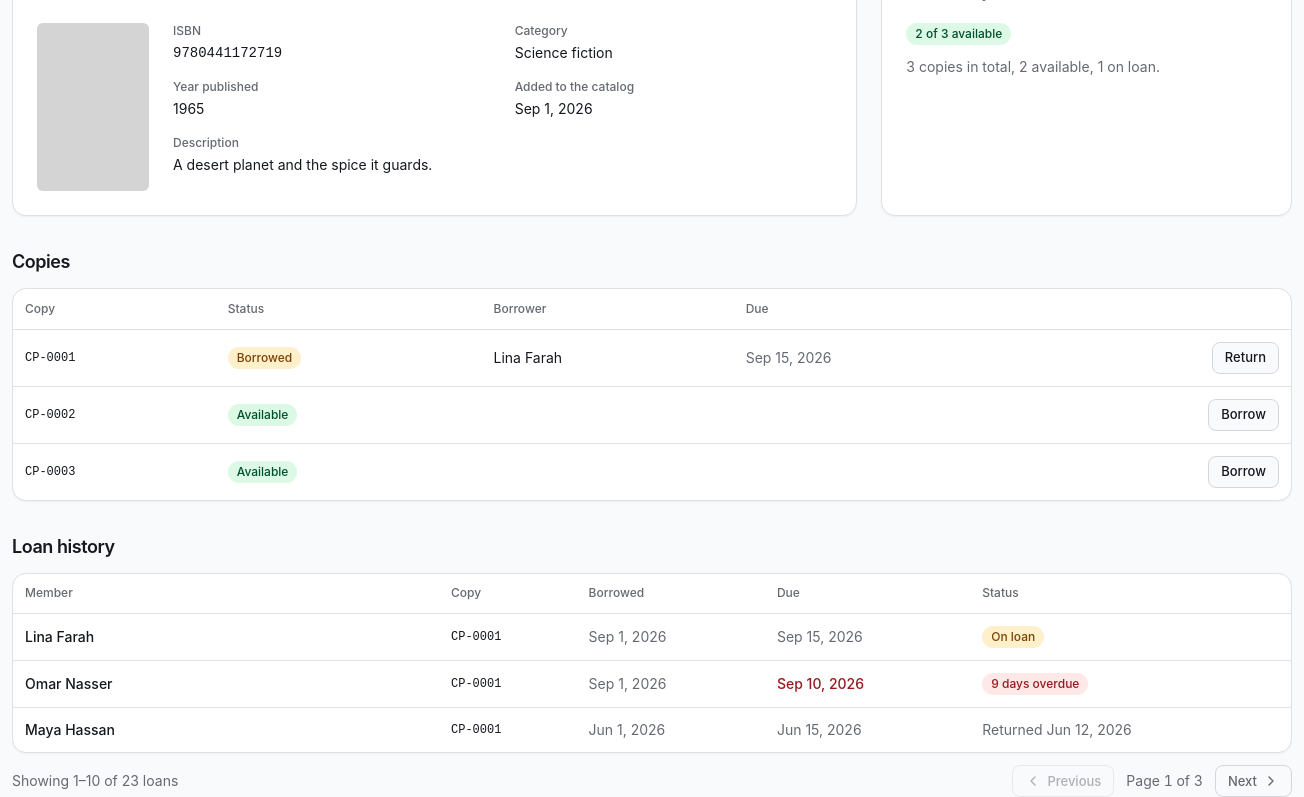
BookDetailPage › shows staff the book's loan history, newest first and paged
(page scrolled)
Expected: the link "Lina Farah" is shown, x1=25 y1=628 x2=94 y2=645
Expected: the row "Lina Farah" shows "On loan", x1=991 y1=629 x2=1035 y2=644
Click the button "Next": (1253, 781) x1=1215 y1=765 x2=1292 y2=796
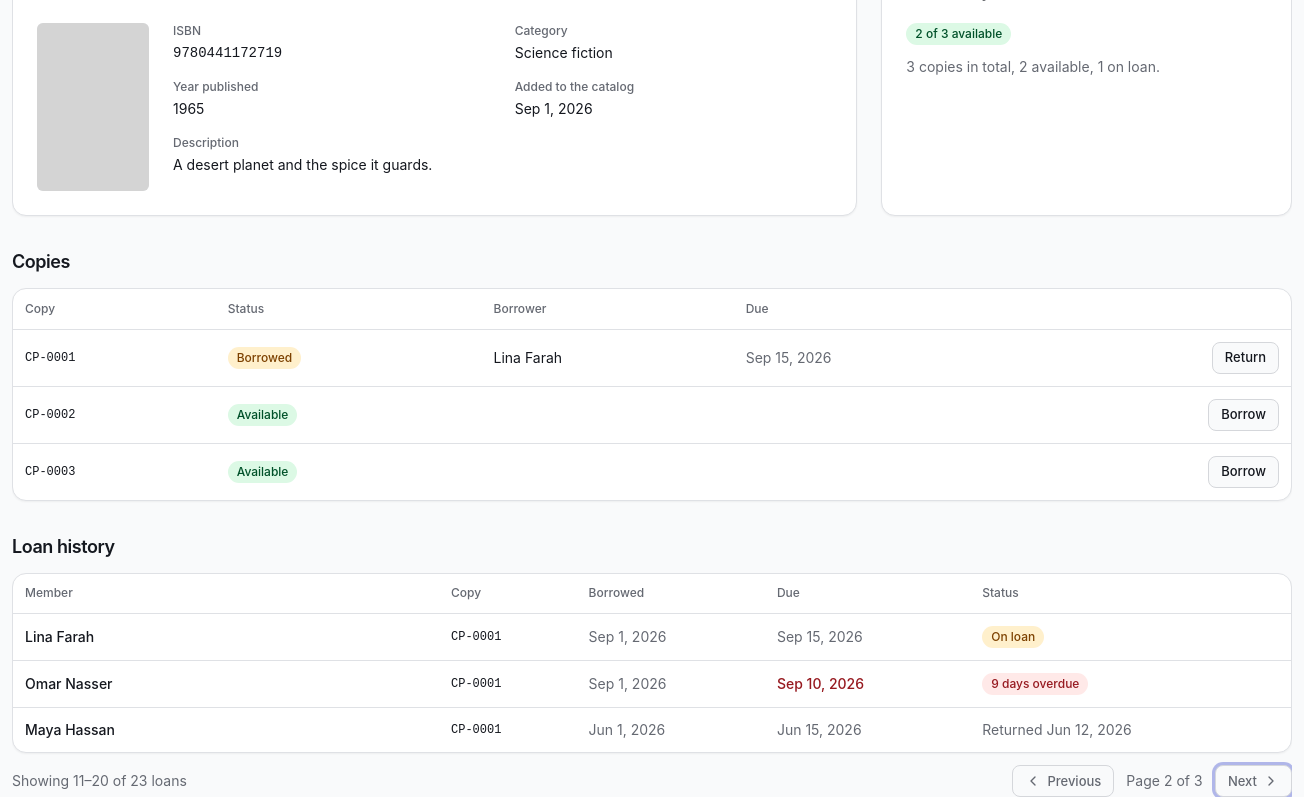
Result: the text "Showing 11–20 of 23 loans" is shown at x1=12 y1=771 x2=187 y2=791
